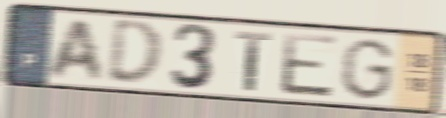3: (167, 21, 221, 93)
A: (45, 17, 107, 83)
D: (104, 18, 165, 89)
E: (280, 30, 340, 101)
G: (337, 36, 397, 103)
T: (232, 28, 274, 93)
